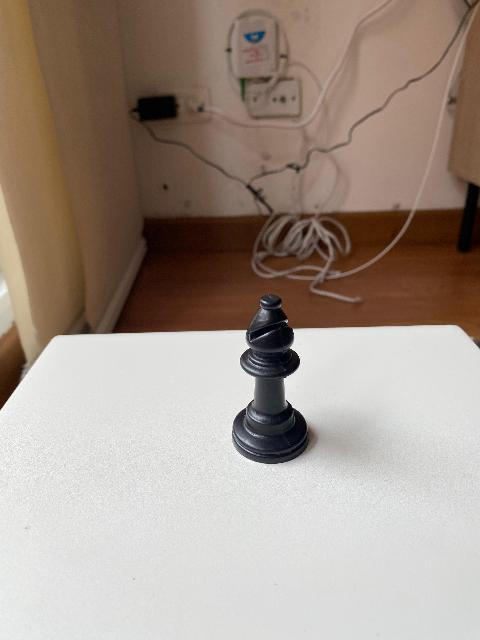black-bishop: (230, 292, 310, 463)
